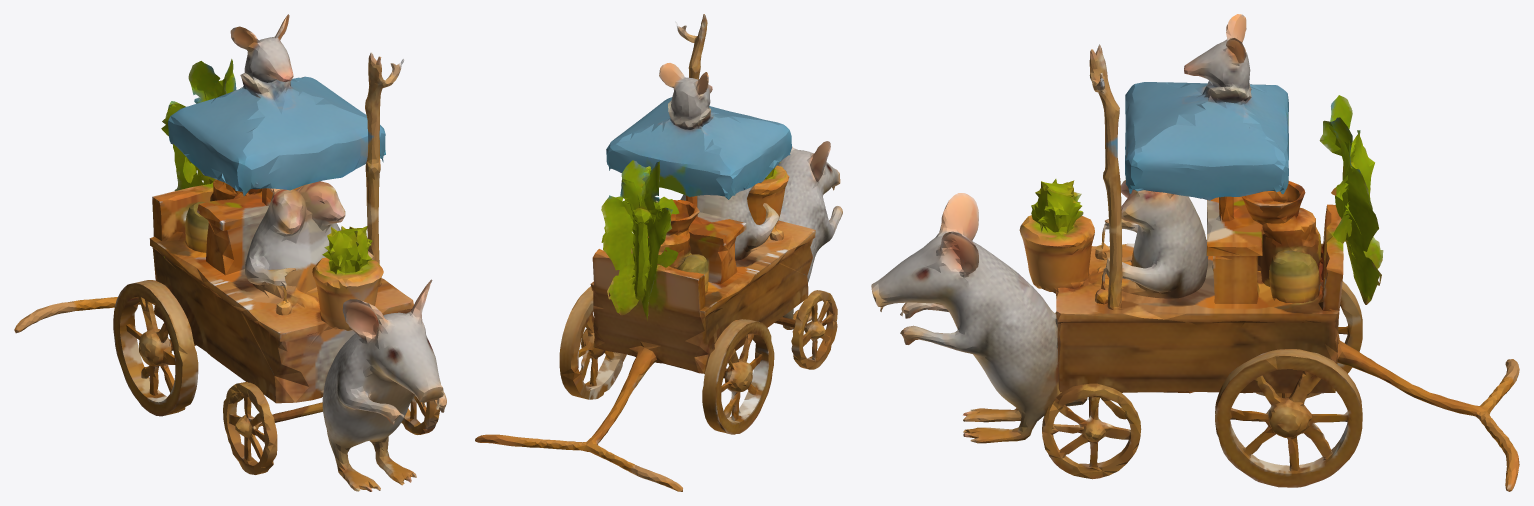
3 views of the same model, side by side, from view 1: azimuth 30°, elevation 25°; view 2: azimuth 150°, elevation 25°; view 3: azimuth 270°, elevation 25° (orthographic). The views are drawn at different scales.
Visible parts, largest first — view 1: TradeCaravan; view 2: TradeCaravan; view 3: TradeCaravan.
Part boxes in pixels (x1=…): TradeCaravan: x1=14, y1=14, x2=446, y2=491; TradeCaravan: x1=475, y1=14, x2=842, y2=491; TradeCaravan: x1=871, y1=14, x2=1519, y2=491.
Size of the model in its own units: 0.8795 by 1.35 by 1.89.
1 material, 1 textured.
